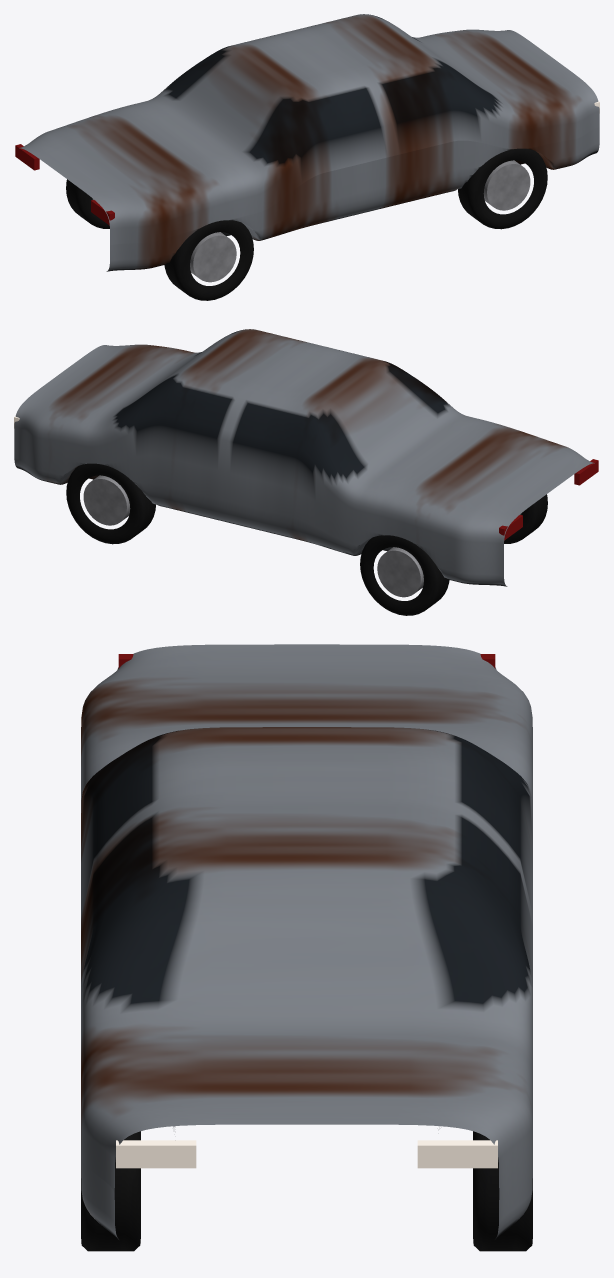
File: car_L2.glb
3 views of the same model, one above another, from view 1: azimuth 30°, elevation 25°; view 2: azimuth 150°, elevation 25°; view 3: azimuth 270°, elevation 25° (orthographic). The views are drawn at different scales.
Visible parts, largest first — view 1: body, tire (×3), rim (×2); view 2: body, tire (×3), rim (×2); view 3: body, tire (×2), lamp (×2).
Boxes of the visible parts, x1,y1,x2,y2 form: body: (19,14,599,271); tire (×3): (66,148,547,300); rim (×2): (190,160,530,282); body: (14,329,594,586); tire (×3): (66,463,547,615); rim (×2): (83,475,423,597); body: (81,644,532,1239); tire (×2): (81,1131,532,1251); lamp (×2): (116,1140,497,1168).
Size of the model in its own units: 4.51 by 1.45 by 1.8.
Materials: 5 (3 with a texture image).
